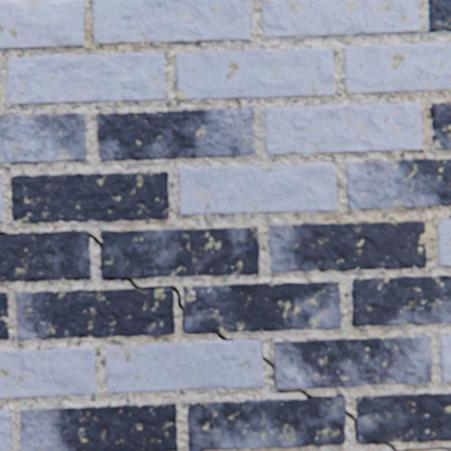brick: (273, 335, 431, 389), (97, 108, 255, 162), (188, 396, 344, 450), (264, 103, 421, 156), (106, 339, 263, 392), (178, 164, 335, 216), (17, 288, 174, 340), (177, 49, 333, 101), (8, 54, 165, 105), (12, 172, 169, 223), (101, 228, 258, 279), (268, 221, 425, 272), (183, 282, 340, 332), (21, 403, 177, 450), (93, 0, 249, 46), (261, 0, 418, 38), (343, 44, 450, 95), (346, 159, 450, 209), (351, 275, 450, 326), (0, 347, 96, 398), (355, 393, 450, 443), (0, 232, 91, 281), (0, 114, 86, 164), (0, 0, 84, 50), (429, 104, 450, 150), (427, 0, 450, 33), (436, 220, 450, 266), (438, 335, 450, 382), (0, 409, 11, 450), (0, 293, 9, 339), (0, 181, 4, 222)
crack: (107, 278, 183, 309), (382, 441, 450, 450), (90, 234, 102, 273), (276, 389, 325, 397), (210, 331, 237, 340), (261, 351, 273, 370), (344, 409, 354, 429), (0, 232, 13, 235), (54, 231, 70, 233), (182, 315, 184, 330), (335, 393, 342, 396), (186, 332, 203, 333), (357, 442, 373, 443), (245, 338, 258, 339)
